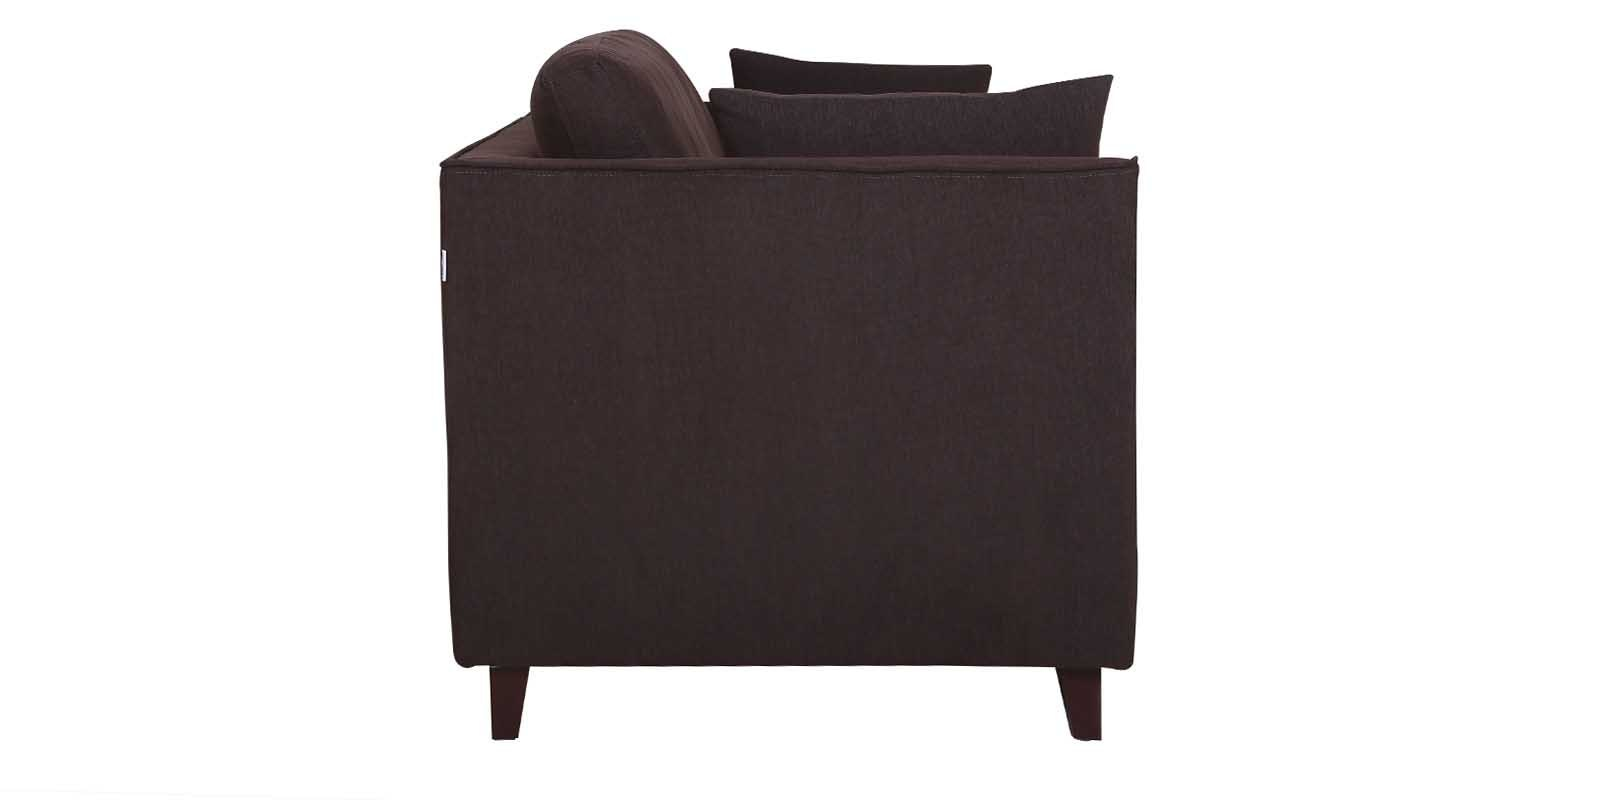Miranda Three Seater Sofa in Chestnut Brown Colour by CasaCraft: (438, 29, 1141, 741)
